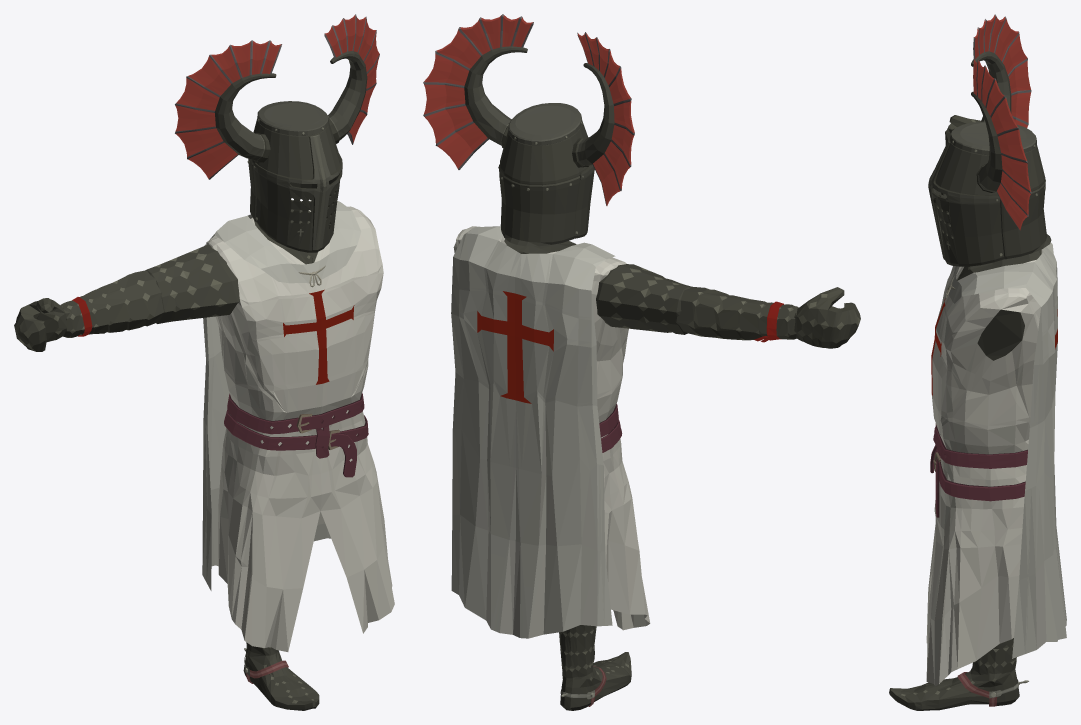
Rendered from templarKnight.glb.
The picture shows the model from 3 angles, left to right: view 1: azimuth 30°, elevation 25°; view 2: azimuth 150°, elevation 25°; view 3: azimuth 270°, elevation 25°; orthographic projection. The views are drawn at different scales.
Parts seen in each view (by area): view 1: templarKnightShirt, templarKnightHelmet, templarKnightCape, templarKnightUpperArm, templarKnightLowerArm, templarKnightBelt2, templarKnightFoot, templarKnightHandArm, templarKnightBelt; view 2: templarKnightCape, templarKnightHelmet, templarKnightShirt, templarKnightLowerArm, templarKnightUpperArm, templarKnightHandArm, templarKnightFoot, templarKnightLeg; view 3: templarKnightShirt, templarKnightHelmet, templarKnightCape, templarKnightFoot, templarKnightBelt2, templarKnightBelt, templarKnightLeg, templarKnightHandArm.
Boxes of the visible parts, <box> form: templarKnightShirt: <box>206,206,394,651</box>; templarKnightHelmet: <box>175,14,379,252</box>; templarKnightCape: <box>202,200,361,590</box>; templarKnightUpperArm: <box>146,245,239,323</box>; templarKnightLowerArm: <box>60,270,163,337</box>; templarKnightBelt2: <box>224,410,368,477</box>; templarKnightFoot: <box>243,648,319,710</box>; templarKnightHandArm: <box>14,298,69,351</box>; templarKnightBelt: <box>227,393,364,434</box>; templarKnightCape: <box>451,226,615,638</box>; templarKnightHelmet: <box>423,14,634,246</box>; templarKnightShirt: <box>453,226,650,630</box>; templarKnightLowerArm: <box>675,286,798,342</box>; templarKnightUpperArm: <box>596,264,691,334</box>; templarKnightHandArm: <box>794,287,860,348</box>; templarKnightFoot: <box>560,652,631,710</box>; templarKnightLeg: <box>559,625,596,678</box>; templarKnightShirt: <box>926,249,1042,686</box>; templarKnightHelmet: <box>928,14,1051,266</box>; templarKnightCape: <box>946,242,1066,658</box>; templarKnightFoot: <box>889,667,1028,710</box>; templarKnightBelt2: <box>930,423,1025,517</box>; templarKnightBelt: <box>933,425,1027,468</box>; templarKnightLeg: <box>972,638,1016,674</box>; templarKnightHandArm: <box>945,115,980,145</box>.
Bounding box in the file's own units: 1.43 × 2.25 × 0.5378.
